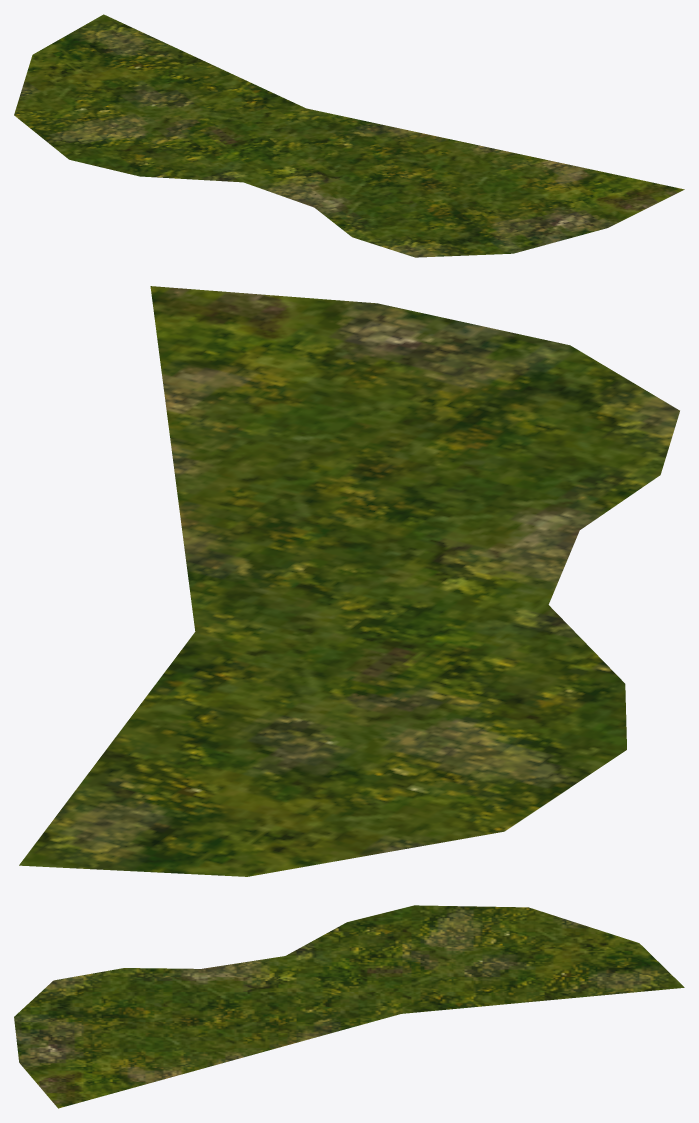
Rendered from OVERHILL_A_01_OBJECT37.fbx.
3 views of the same model, one above another, from view 1: azimuth 30°, elevation 25°; view 2: azimuth 150°, elevation 25°; view 3: azimuth 270°, elevation 25° (orthographic). The views are drawn at different scales.
Visible parts, largest first — view 1: OVERHILL_A_01_OBJECT37; view 2: OVERHILL_A_01_OBJECT37; view 3: OVERHILL_A_01_OBJECT37.
Part boxes in pixels (bbox=[...]): OVERHILL_A_01_OBJECT37: bbox=[14, 14, 684, 257]; OVERHILL_A_01_OBJECT37: bbox=[19, 286, 679, 876]; OVERHILL_A_01_OBJECT37: bbox=[14, 905, 684, 1108].
Size of the model in its own units: 25430 by 0.0651 by 35494.
1 material, 1 textured.
